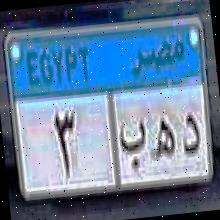3: (48, 104, 84, 180)
baa: (116, 114, 151, 179), (148, 111, 180, 166)
daal: (176, 102, 203, 162)
